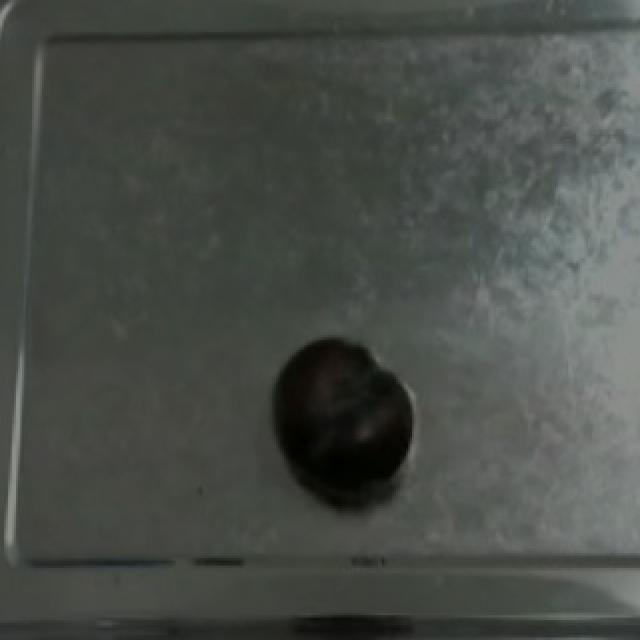Fruit: (270, 338, 418, 492)
